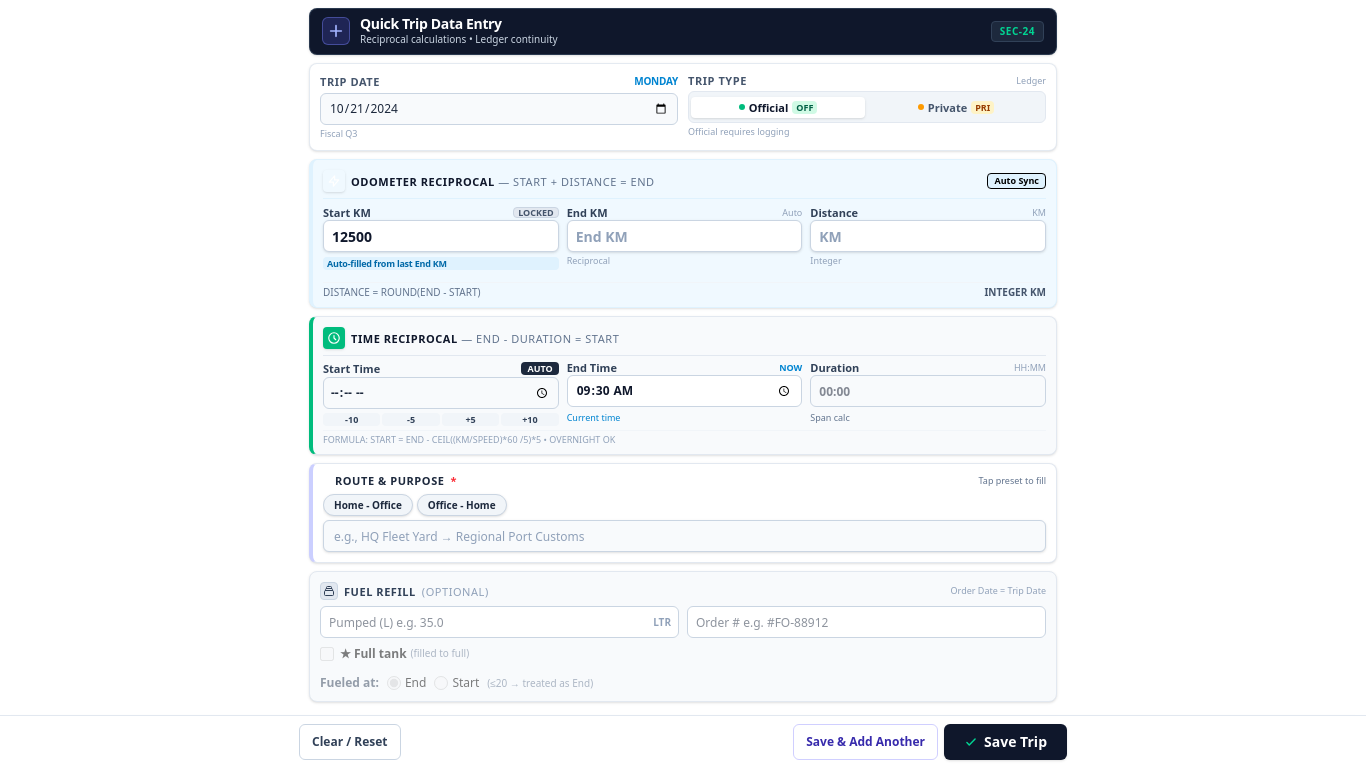
Test case: QuickTripForm › auto-suggests Estimated Start Time when Distance and End Time present and Start Time empty
The width and height of the screenshot is (1366, 768).
Check: the number field labelled "Start KM" holds "12500", box [323, 220, 559, 252]
Check: the time field labelled "Start Time" is empty, box [323, 377, 559, 409]
Type "9" into the number field named "Trip Distance" at (928, 236), box [810, 220, 1046, 252]
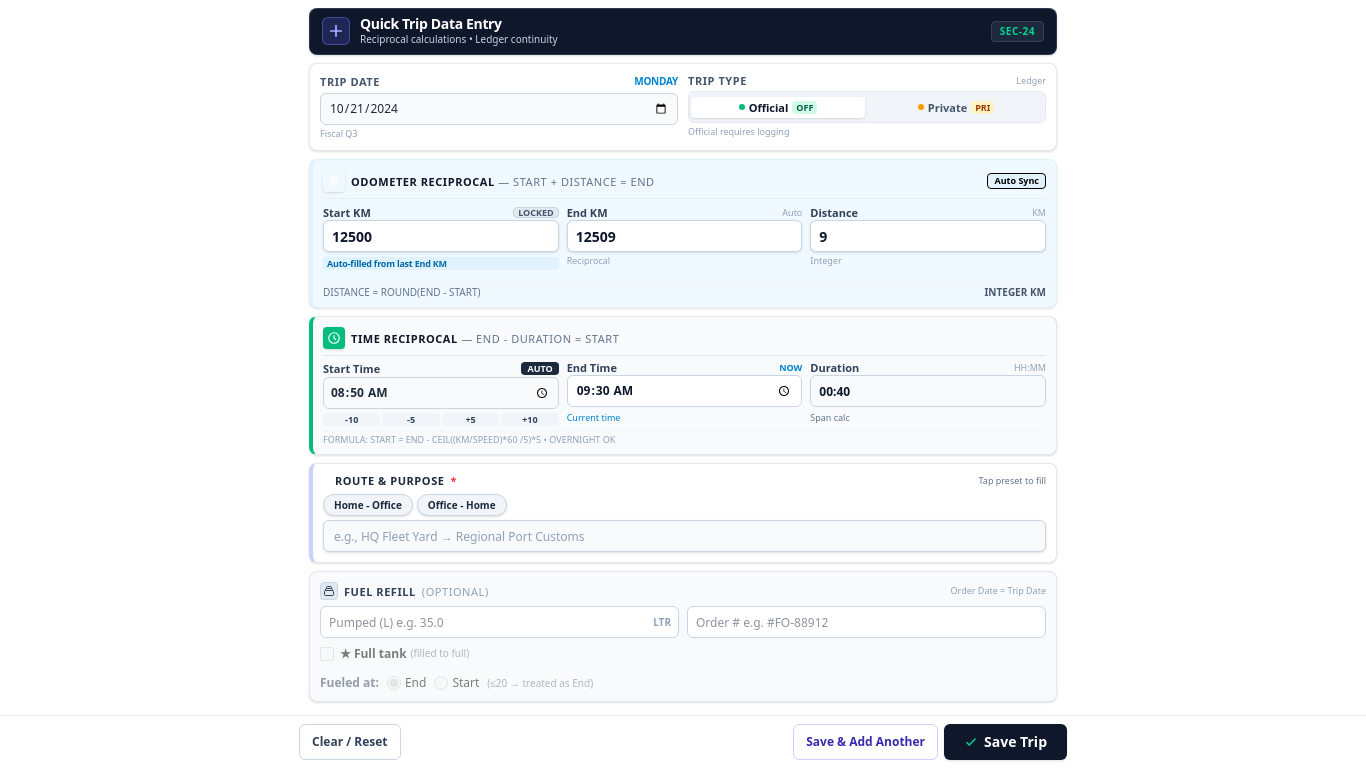
Check: the time field labelled "Start Time" holds "08:50", box [323, 377, 559, 409]
